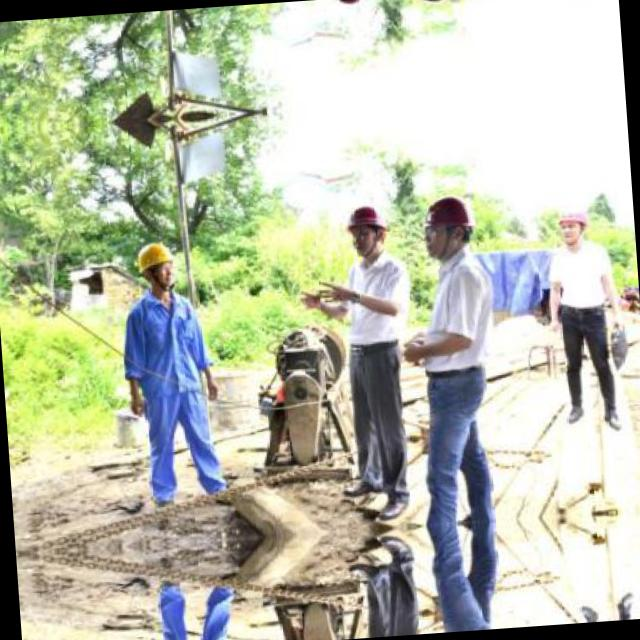helmet: (419, 192, 476, 262), (340, 197, 389, 260), (136, 239, 176, 294), (554, 198, 590, 252), (325, 0, 372, 12)
